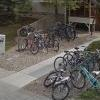Bicycle: (45, 53, 90, 99), (19, 26, 75, 51)
